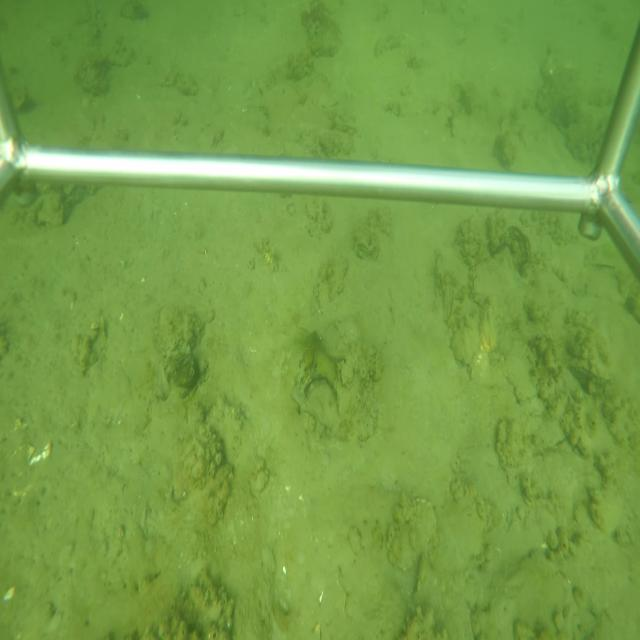Oyster-Closed: (297, 368, 342, 428), (180, 369, 216, 406)
Oyster-Indeterminate: (468, 248, 533, 327), (449, 321, 481, 368)
